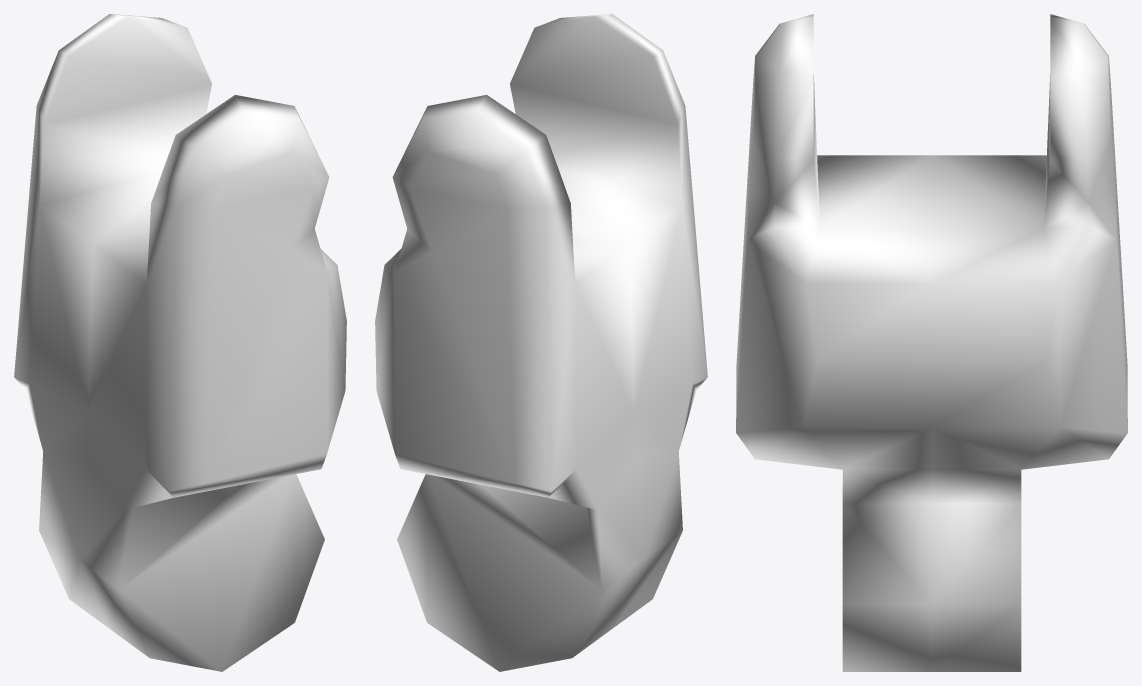
File: indexj2_left.obj
The picture shows the model from 3 angles, left to right: view 1: azimuth 30°, elevation 25°; view 2: azimuth 150°, elevation 25°; view 3: azimuth 270°, elevation 25°; orthographic projection. The views are drawn at different scales.
Size of the model in its own units: 0.0133 by 0.0345 by 0.0189.
Materials: 1 (1 with a texture image).
